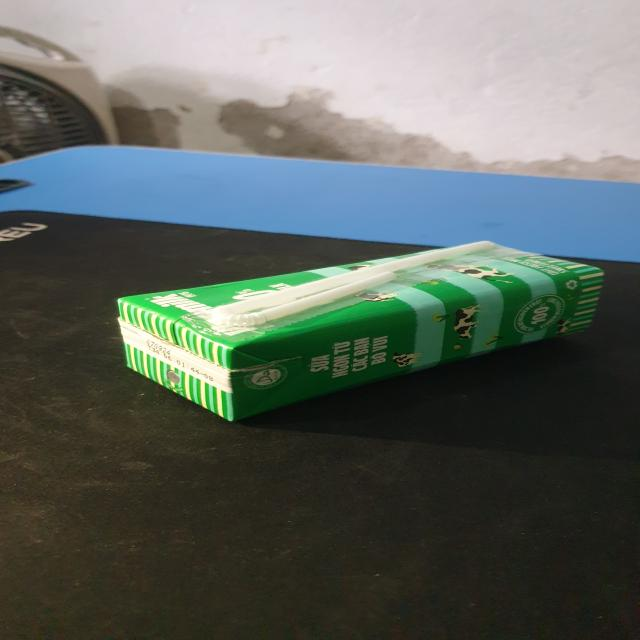Vina: (120, 234, 605, 423)
